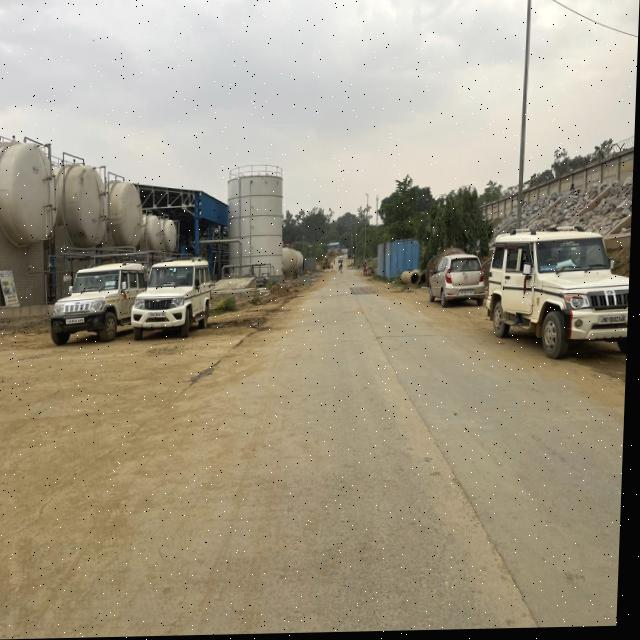car: (486, 220, 633, 371), (53, 260, 146, 355), (131, 256, 218, 349), (426, 252, 491, 314)
